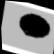correct: (14, 7, 54, 44)
